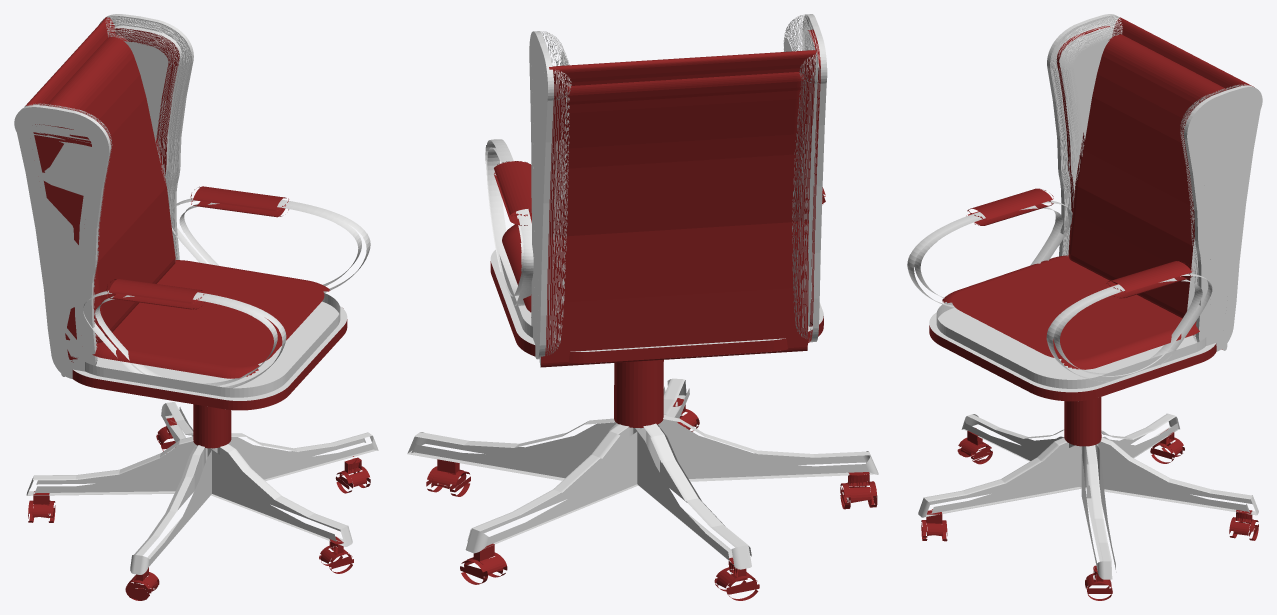
The model's file is luxury-chair.glb.
3 renders of one model, left to right at view 1: azimuth 30°, elevation 25°; view 2: azimuth 150°, elevation 25°; view 3: azimuth 270°, elevation 25°, orthographic. The views are drawn at different scales.
Parts seen in each view (by area): view 1: Null7_AYAK_Cylinder_1_black_0, Null7_AYAK_Null1_Extrude6_gold_0, Null7_Null5_Null11_Extrude_3_Cap_28_Mat_7_0; view 2: Null7_AYAK_Cylinder_1_black_0, Null7_AYAK_Null1_Extrude6_gold_0, Null7_Null5_Null11_Extrude_3_Cap_28_Mat_7_0; view 3: Null7_AYAK_Cylinder_1_black_0, Null7_AYAK_Null1_Extrude6_gold_0, Null7_Null5_Null11_Extrude_3_Cap_28_Mat_7_0.
Part boxes in pixels (x1,y1,x2,y2): Null7_AYAK_Cylinder_1_black_0: (25,17,370,600); Null7_AYAK_Null1_Extrude6_gold_0: (14,14,378,574); Null7_Null5_Null11_Extrude_3_Cap_28_Mat_7_0: (95,301,338,388); Null7_AYAK_Cylinder_1_black_0: (426,29,877,600); Null7_AYAK_Null1_Extrude6_gold_0: (407,14,878,569); Null7_Null5_Null11_Extrude_3_Cap_28_Mat_7_0: (515,30,818,367); Null7_AYAK_Cylinder_1_black_0: (921,17,1258,600); Null7_AYAK_Null1_Extrude6_gold_0: (907,14,1262,579); Null7_Null5_Null11_Extrude_3_Cap_28_Mat_7_0: (938,27,1227,379).
Size of the model in its own units: 0.8504 by 1.05 by 0.7744.
